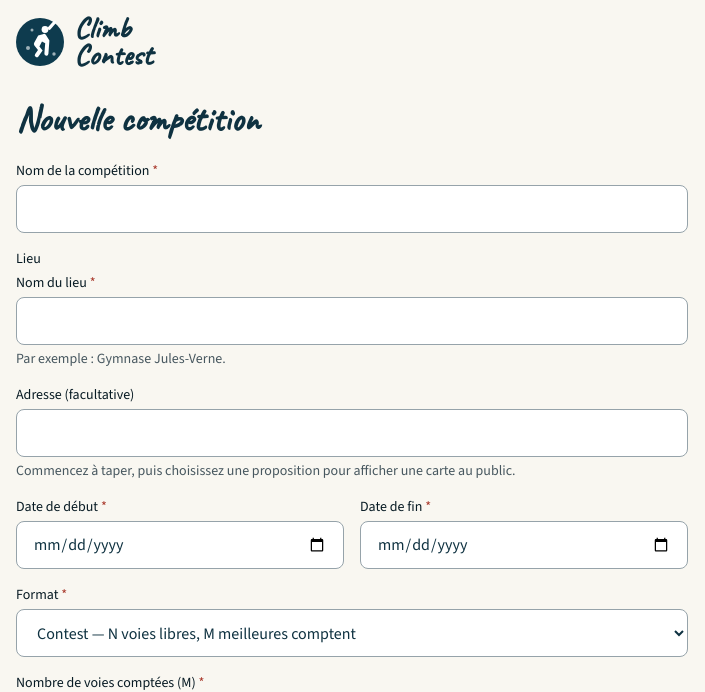
Test case: CompetitionCreate › date de fin › suit la date de début quand celle-ci change
The image size is (705, 692).
Type "2026-06-10" into the date field labelled "Date de début *" at (180,545), box [16, 521, 344, 569]
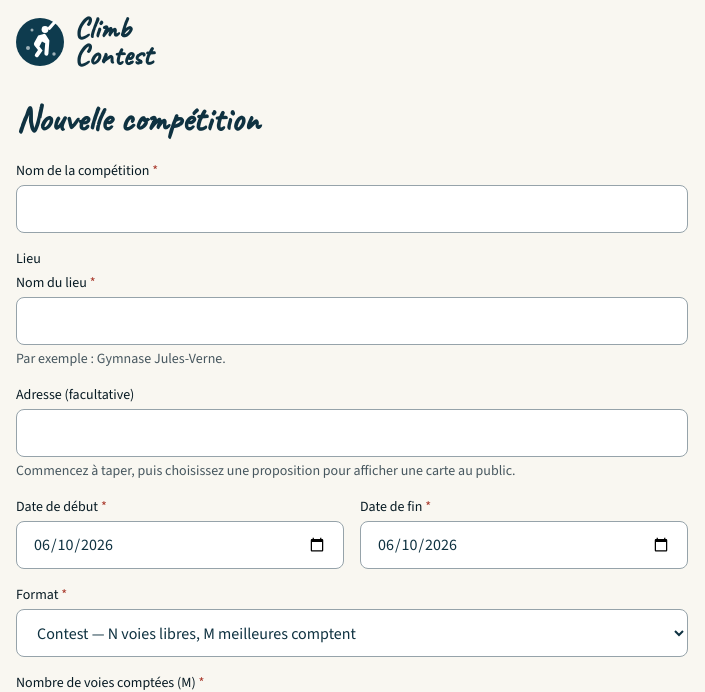
Result: the date field labelled "Date de fin *" holds "2026-06-10" at [360, 521, 688, 569]
Type "2026-06-12" into the date field labelled "Date de début *" at (180,545), box [16, 521, 344, 569]
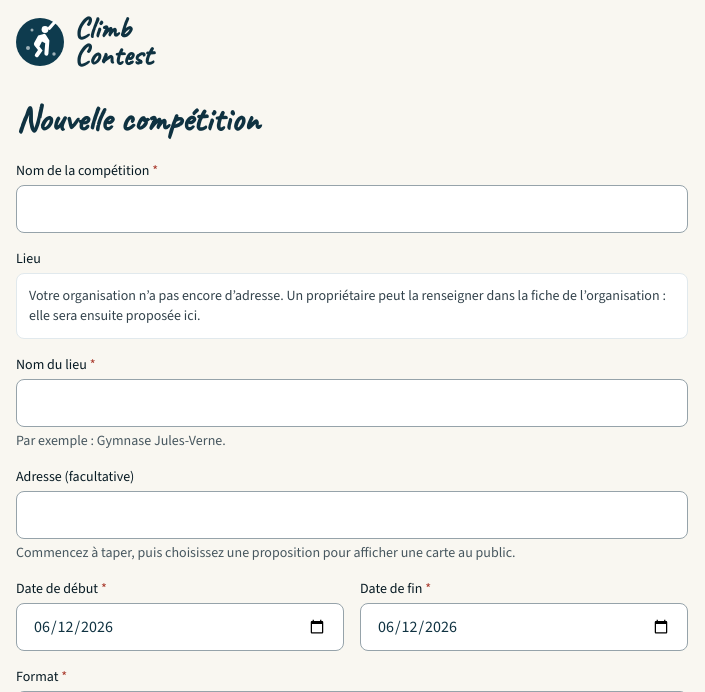
Result: the date field labelled "Date de fin *" holds "2026-06-12" at [360, 603, 688, 651]
